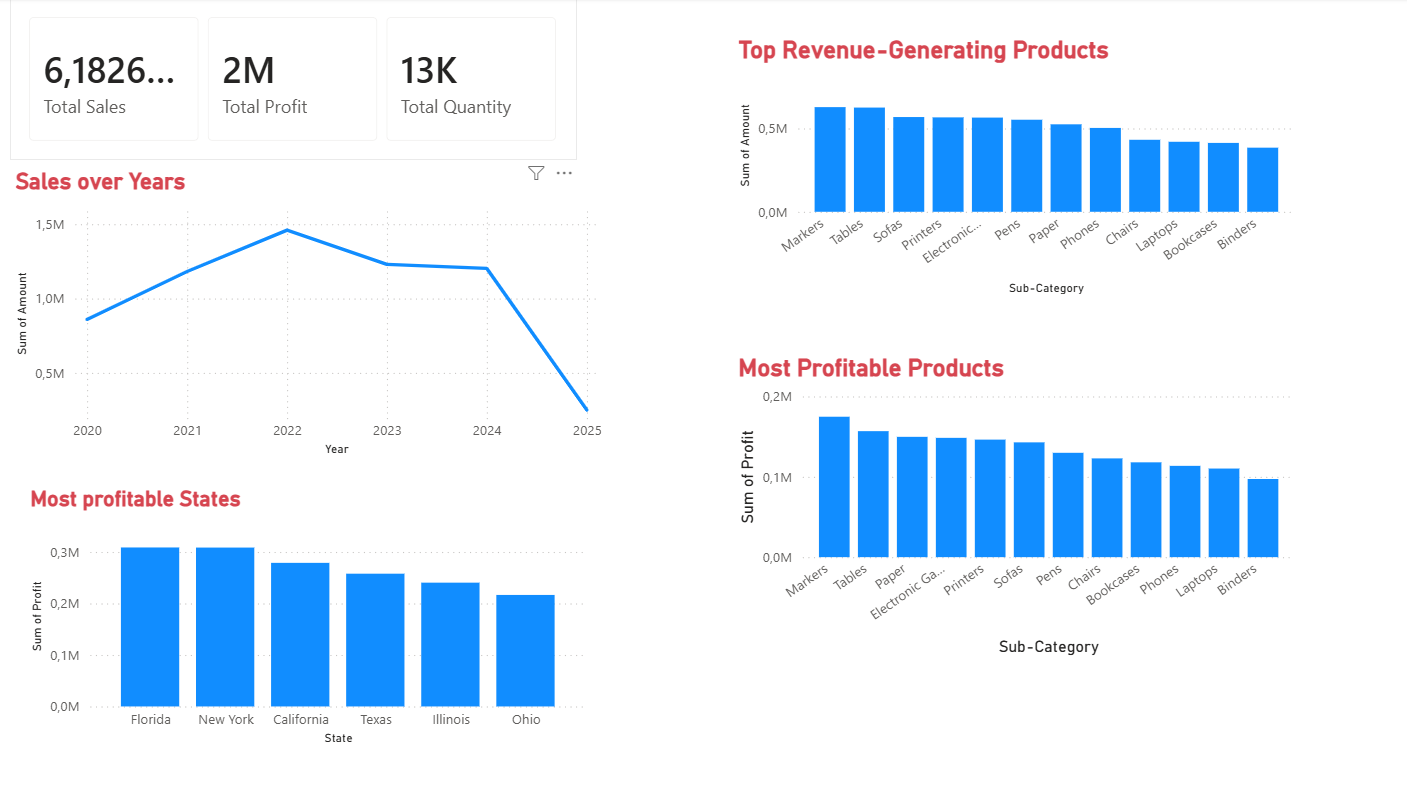

This screenshot's page, from the dashboard's own definition file:
{"tool":"powerbi","page":{"name":"Page 1","canvas":[1280,720],"ordinal":2},"visuals":[{"type":"clusteredColumnChart","title":"Top Revenue-Generating Products","fields":{"Y":["Sum(Sales Dataset.Amount)"],"Category":["Sales Dataset.Sub-Category"]},"box":[665.4,34,507.8,236.4],"z":0},{"type":"clusteredColumnChart","title":"Most Profitable Products","fields":{"Category":["Sales Dataset.Sub-Category"],"Y":["Sum(Sales Dataset.Profit)"]},"box":[665.4,318.8,507.8,274.9],"z":1000},{"type":"clusteredColumnChart","title":"Most profitable States","fields":{"Y":["Sum(Sales Dataset.Profit)"],"Category":["Sales Dataset.State"]},"box":[31.3,437,507.8,236.4],"z":2000},{"type":"lineChart","title":"Sales over Years","fields":{"Y":["Sum(Sales Dataset.Amount)"],"Category":["Sales Dataset.Year-Month.Variation.Date Hierarchy.Year","Sales Dataset.Year-Month.Variation.Date Hierarchy.Quarter","Sales Dataset.Year-Month.Variation.Date Hierarchy.Month","Sales Dataset.Year-Month.Variation.Date Hierarchy.Day"]},"box":[17.9,152.2,534.6,262.4],"z":3000},{"type":"cardVisual","fields":{"Data":["Sales Dataset.Total_amount","Sales Dataset.Total_profit","Sales Dataset.Total_Quantity"]},"box":[17.9,0,507.8,145.1],"z":4000}]}

Visuals, with their boxes in screenshot pixels (x1, y1, x2, y2), scaled from the page's 1280x720 canvas onto the 1407x797 screenshot:
"Top Revenue-Generating Products" clusteredColumnChart: (x1=731, y1=38, x2=1290, y2=299)
"Most Profitable Products" clusteredColumnChart: (x1=731, y1=353, x2=1290, y2=657)
"Most profitable States" clusteredColumnChart: (x1=34, y1=484, x2=593, y2=745)
"Sales over Years" lineChart: (x1=20, y1=168, x2=607, y2=459)
cardVisual - Sales Dataset.Total_amount x Sales Dataset.Total_profit: (x1=20, y1=0, x2=578, y2=161)
